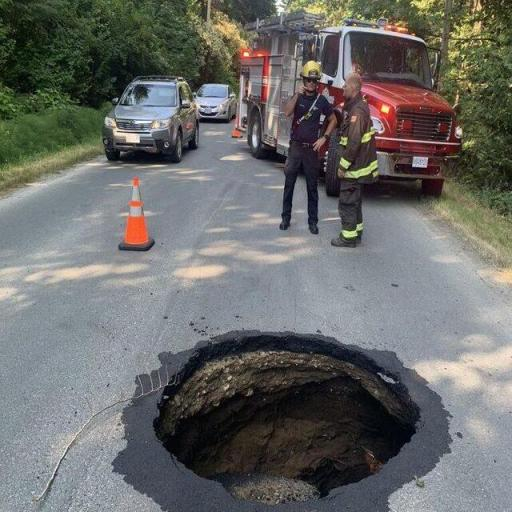Concentric_Crack: (154, 333, 419, 504)
